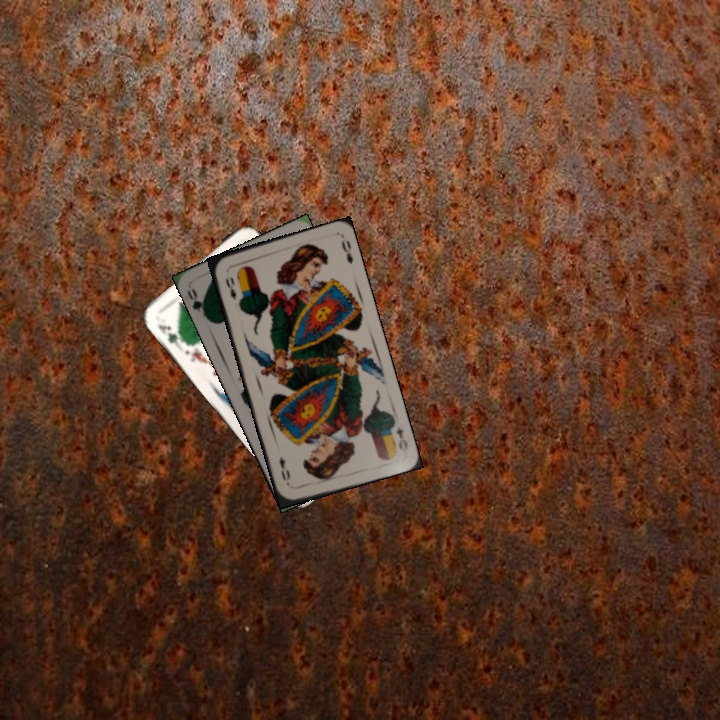EO: (392, 422, 411, 454), (221, 273, 239, 302)
GK: (154, 320, 184, 348)
GO: (183, 284, 210, 321)
